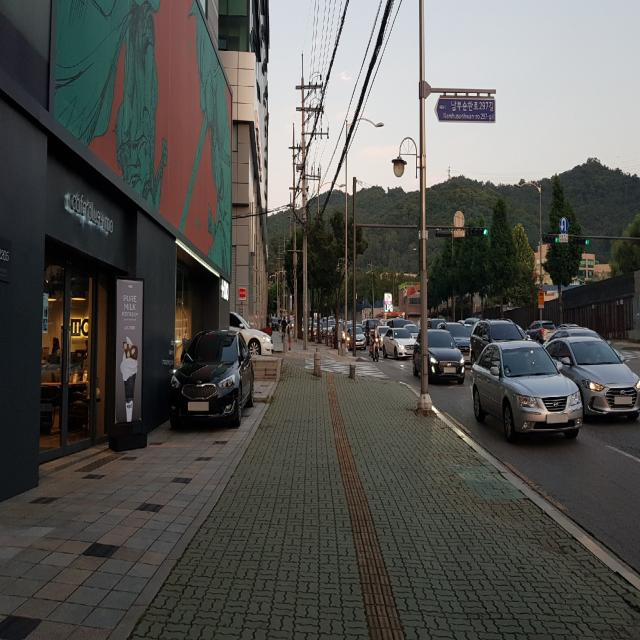횡단보도: (306, 357, 390, 378)
